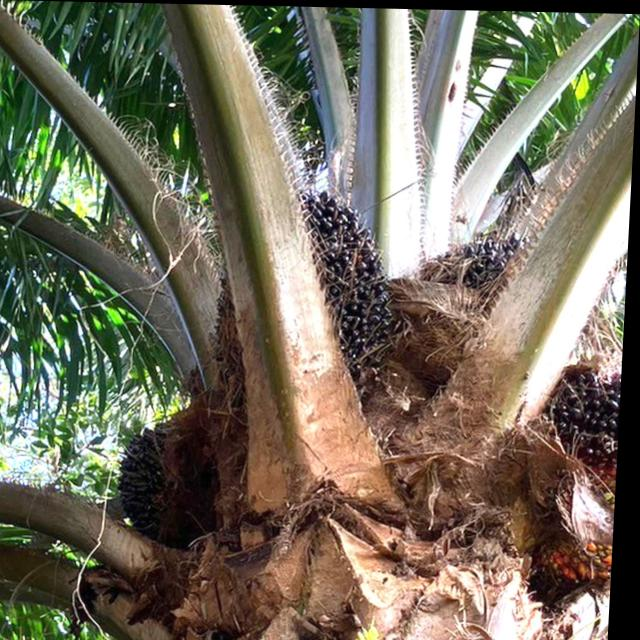unripe: (204, 173, 416, 431)
